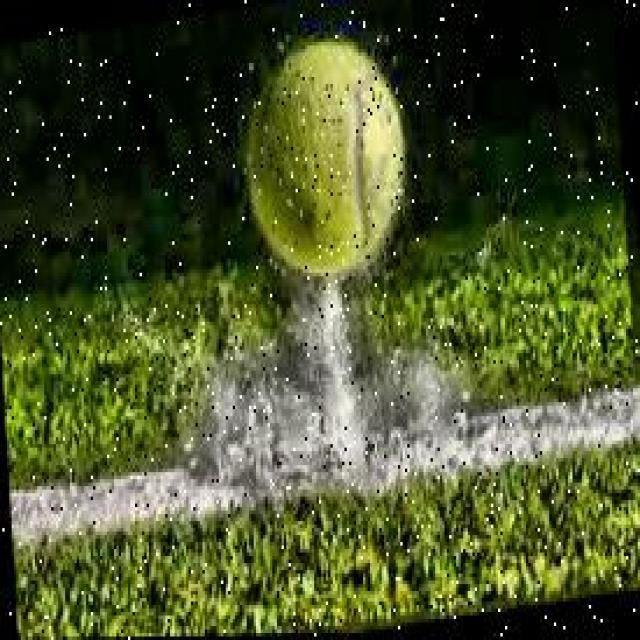tennis-ball: (235, 18, 414, 304)
